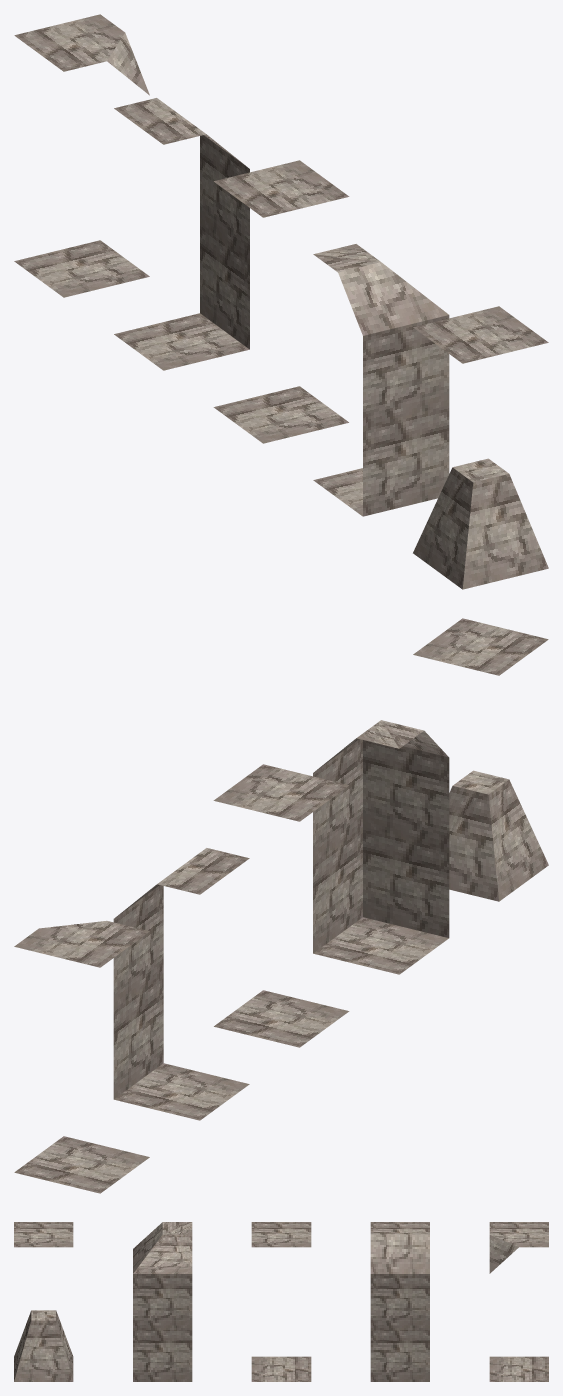
The model's file is tiles.glb.
3 views of the same model, one above another, from view 1: azimuth 30°, elevation 25°; view 2: azimuth 150°, elevation 25°; view 3: azimuth 270°, elevation 25° (orthographic). The views are drawn at different scales.
Visible parts, largest first — view 1: cornerOut-col, altar-col, wall-col, cornerIn-col, floor-col; view 2: cornerOut-col, wall-col, altar-col, floor-col, cornerIn-col; view 3: wall-col, cornerOut-col, altar-col, cornerIn-col, floor-col.
Part boxes in pixels (x1,y1,x2,y2): cornerOut-col: (313, 244, 449, 516); altar-col: (413, 306, 548, 589); wall-col: (114, 98, 249, 370); cornerIn-col: (14, 14, 149, 297); floor-col: (213, 160, 349, 443); cornerOut-col: (313, 720, 449, 974); wall-col: (113, 848, 249, 1120); altar-col: (413, 618, 548, 901); floor-col: (213, 764, 349, 1047); cornerIn-col: (14, 920, 149, 1193); wall-col: (370, 1222, 429, 1381); cornerOut-col: (133, 1222, 192, 1381); altar-col: (14, 1222, 73, 1381); cornerIn-col: (489, 1222, 548, 1381); floor-col: (251, 1222, 311, 1381).
Size of the model in its own units: 1 by 2.5 by 9.
Materials: 1 (1 with a texture image).
